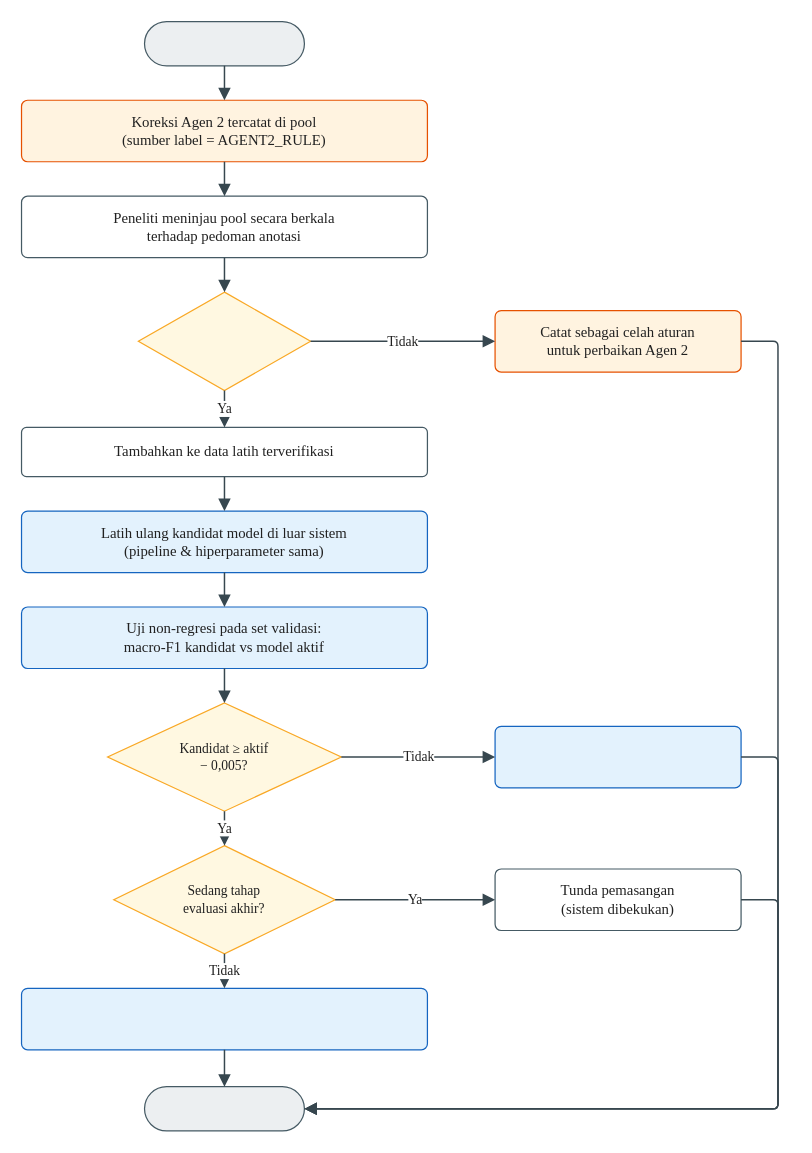
Some shapes in this 812 by 1153 pixel diagram are drawn without their labels. The shapes that lost their labels are listed below. From the top down, each one's centre as x and y in pixels, then its label:
At (223,43): "Mulai".
At (224,341): "Koreksi valid?".
At (617,756): "Tolak kandidat; model aktif dipertahankan".
At (223,1018): "Simpan versi model baru & muat ulang Agen 1".
At (223,1108): "Selesai".
